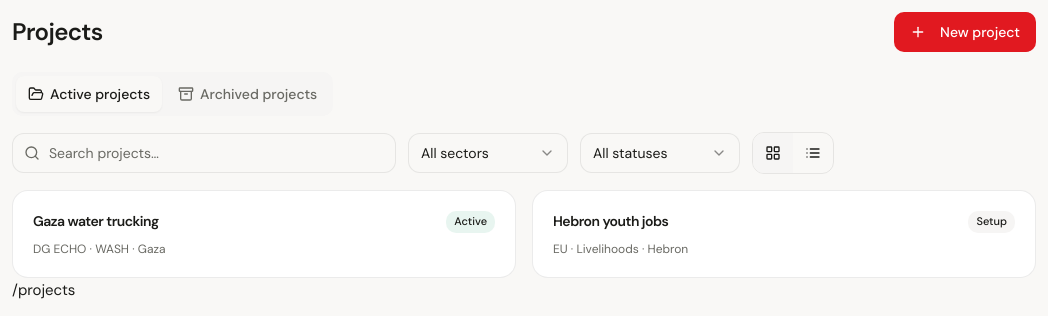
Projects list controls › filters by search and says when nothing matches
Expected: the heading "Gaza water trucking" is shown, [33, 211, 159, 231]
In the field labelled "Search projects": (204, 153) [12, 133, 396, 173], type "hebron"
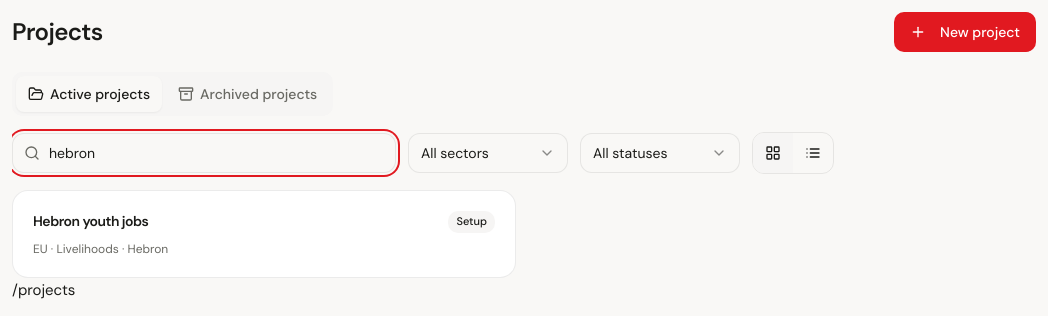
Expected: the heading "Hebron youth jobs" is shown, [33, 211, 148, 231]
Result: the link "Gaza water trucking" is gone
In the field named "Search projects": (204, 153) [12, 133, 396, 173], type " nothing"
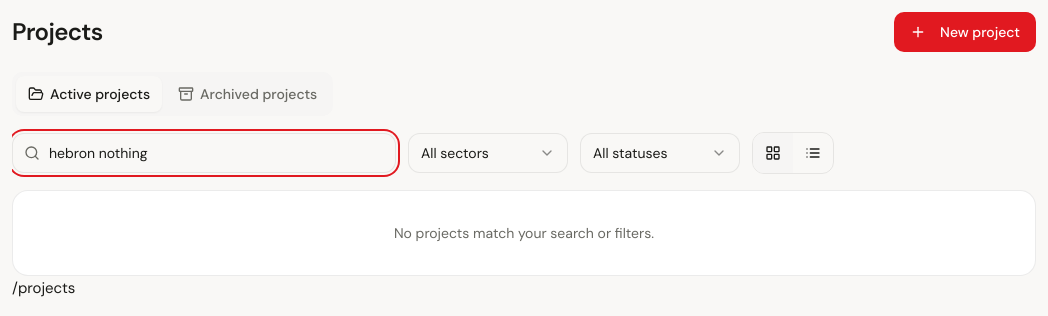
Result: the text "No projects match your search or filters." is shown at [12, 190, 1036, 276]
